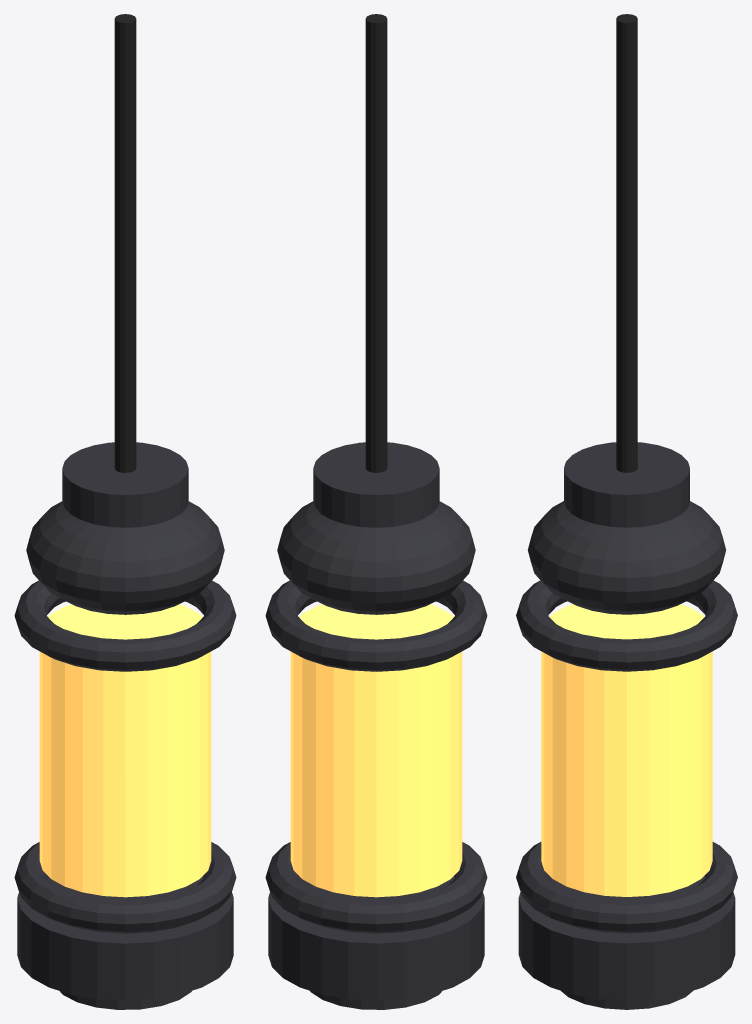
Rendered from Lantern.fbx.
3 views of the same model, side by side, from view 1: azimuth 30°, elevation 25°; view 2: azimuth 150°, elevation 25°; view 3: azimuth 270°, elevation 25° (orthographic).
Visible parts, largest first — view 1: HangingLantern; view 2: HangingLantern; view 3: HangingLantern.
Boxes of the visible parts, x1,y1,x2,y2 form: HangingLantern: (14,14,236,1009); HangingLantern: (265,14,487,1009); HangingLantern: (516,14,737,1009).
Bounding box in the file's own units: 24.6 × 117 × 24.6.
